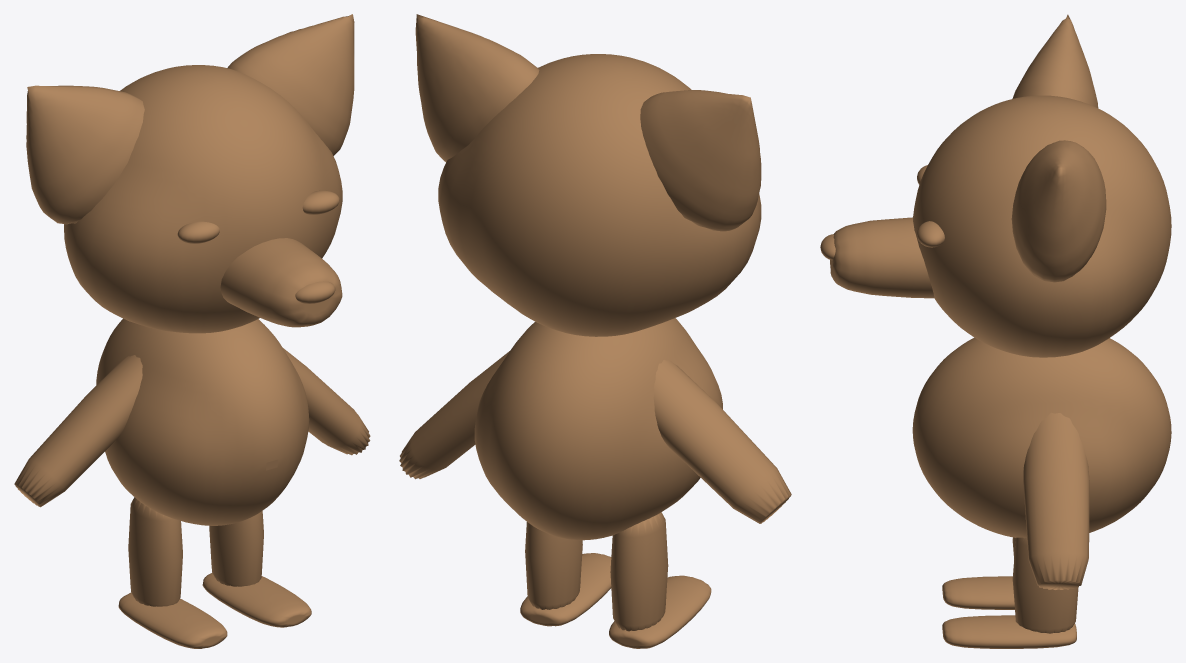
Rendered from fox 2.fbx.
3 views of the same model, side by side, from view 1: azimuth 30°, elevation 25°; view 2: azimuth 150°, elevation 25°; view 3: azimuth 270°, elevation 25° (orthographic). The views are drawn at different scales.
Parts seen in each view (by area): view 1: pSphere1, pSphere2, pCone2, pCone1, pCylinder6, pCylinder1, pCylinder2, pCylinder7, pCylinder4, pCylinder3, pCylinder5, pSphere4 (+2 smaller); view 2: pSphere1, pSphere2, pCone2, pCone1, pCylinder6, pCylinder2, pCylinder7, pCylinder3, pCylinder4, pCylinder5; view 3: pSphere1, pSphere2, pCone1, pCylinder7, pCylinder1, pCone2, pCylinder3, pCylinder5, pCylinder4, pSphere5.
Part boxes in pixels (x1,y1,x2,y2): pSphere1: (64,65,342,333); pSphere2: (96,318,309,525); pCone2: (26,85,144,224); pCone1: (227,14,354,155); pCylinder6: (14,355,142,507); pCylinder1: (220,238,342,327); pCylinder2: (128,497,182,606); pCylinder7: (283,348,370,455); pCylinder4: (118,592,227,648); pCylinder3: (209,511,263,586); pCylinder5: (202,573,311,627); pSphere4: (177,221,219,243); pSphere1: (438,54,761,336); pSphere2: (474,318,722,540); pCone2: (640,90,761,231); pCone1: (415,14,539,162); pCylinder6: (653,360,791,523); pCylinder2: (610,512,668,631); pCylinder7: (399,351,509,479); pCylinder3: (525,522,582,609); pCylinder4: (609,575,711,648); pCylinder5: (520,553,611,626); pSphere1: (913,95,1171,357); pSphere2: (912,337,1171,537); pCone1: (1011,140,1106,282); pCylinder7: (1023,412,1089,589); pCylinder1: (830,217,934,298); pCone2: (1012,14,1098,107); pCylinder3: (1012,537,1078,633); pCylinder5: (942,615,1076,648); pCylinder4: (942,576,1014,609); pSphere5: (917,221,944,247).
Bounding box in the file's own units: 0.0303 × 0.0449 × 0.0267.
